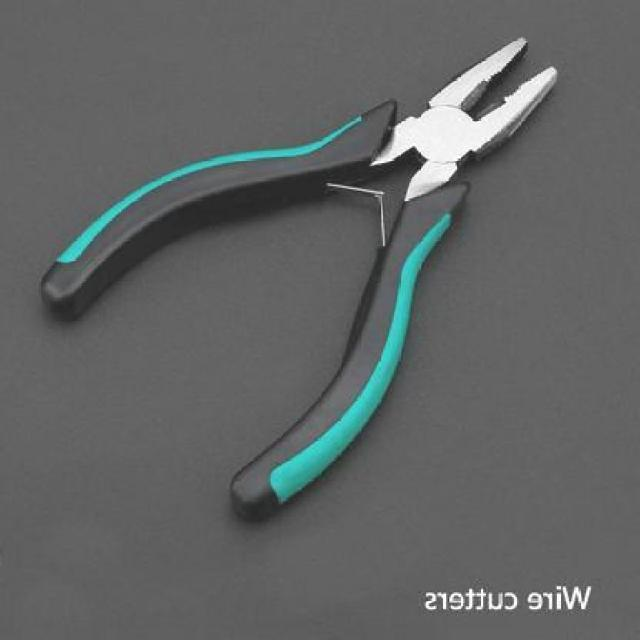pliers: (42, 29, 564, 532)
